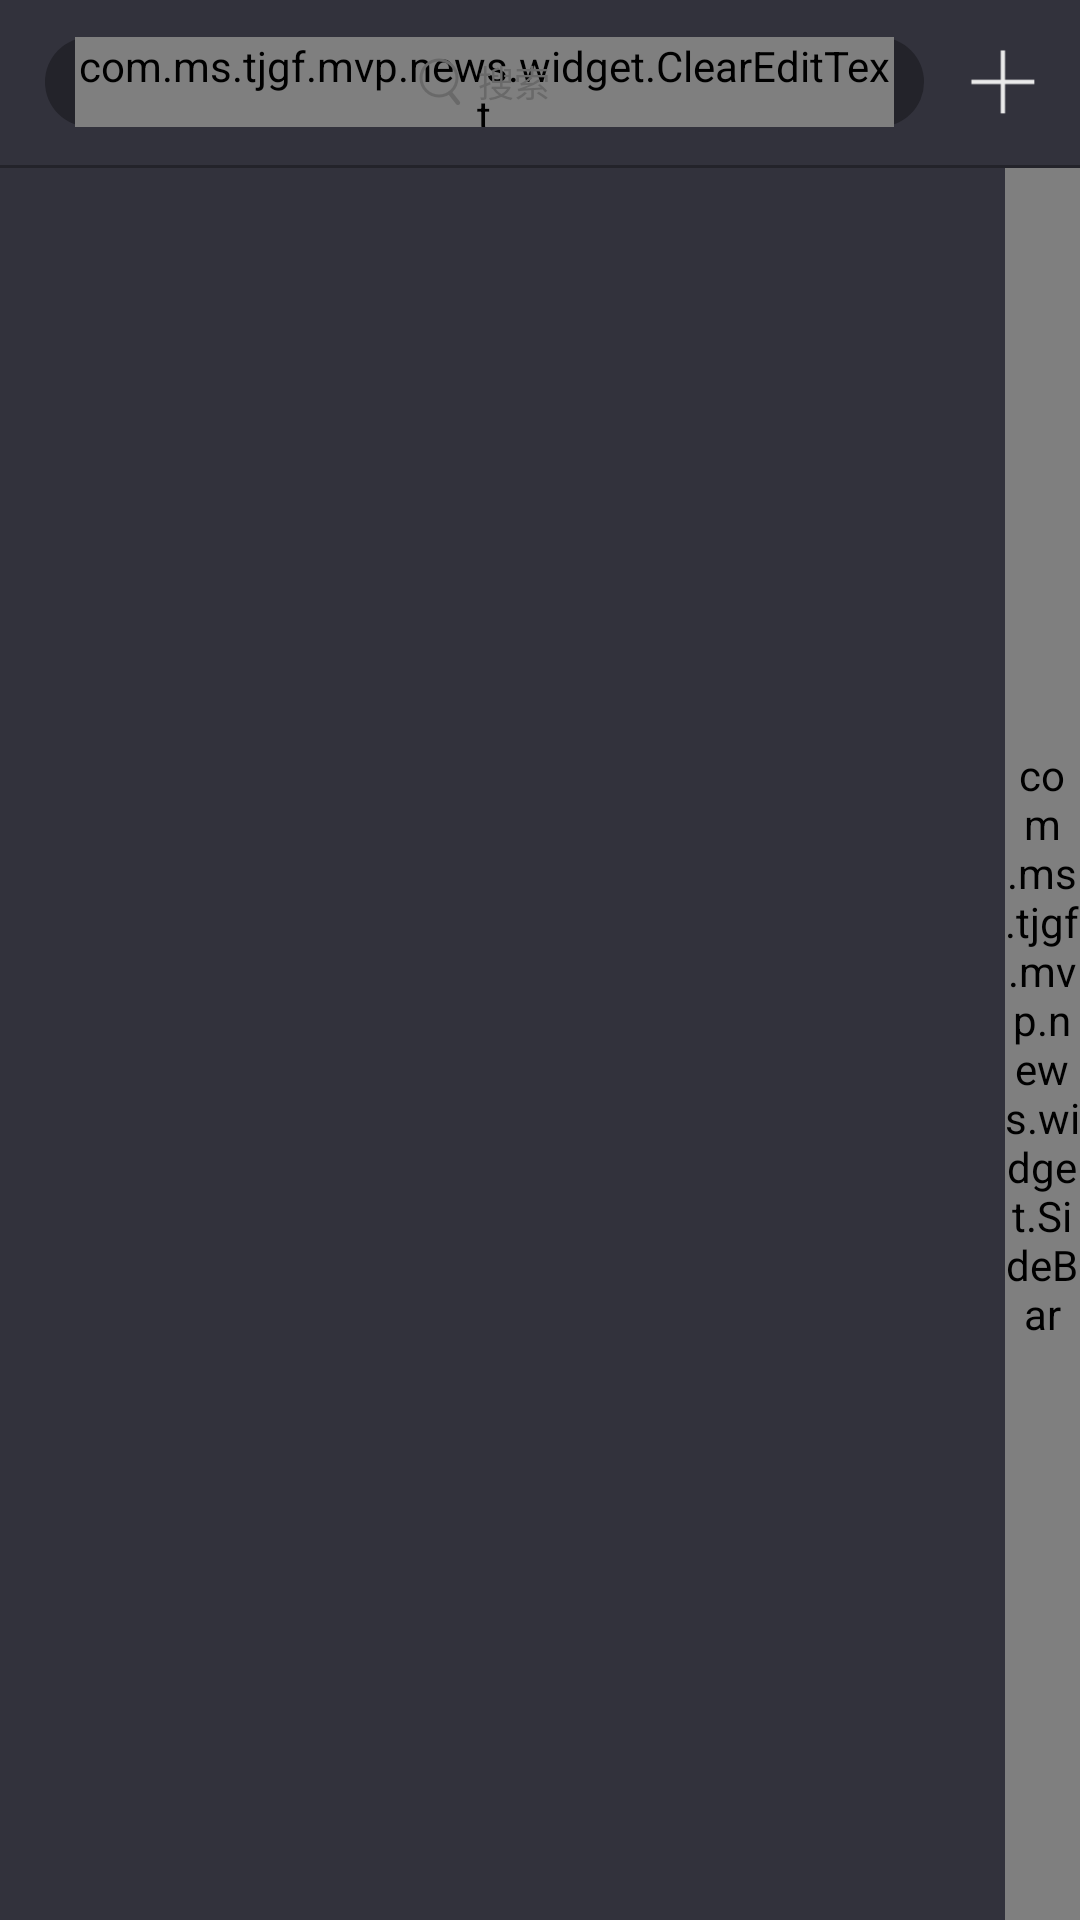

Where icons sit on this 1080w x 1920h app screen, as (x1, y1, x2, y2):
fistfriend add: (971, 50, 1035, 114)
